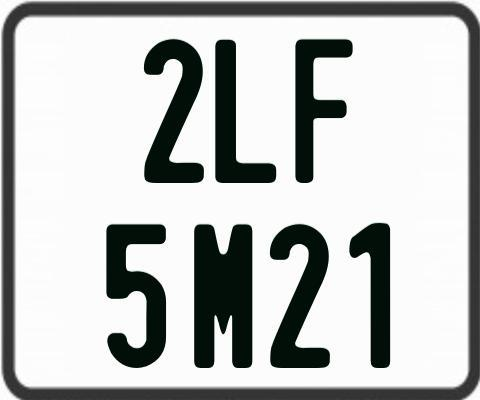1: (347, 221, 390, 368)
2: (268, 224, 332, 371), (143, 39, 205, 189)
5: (106, 224, 171, 371)
F: (292, 37, 350, 186)
L: (212, 37, 274, 185)
M: (193, 221, 254, 370)
